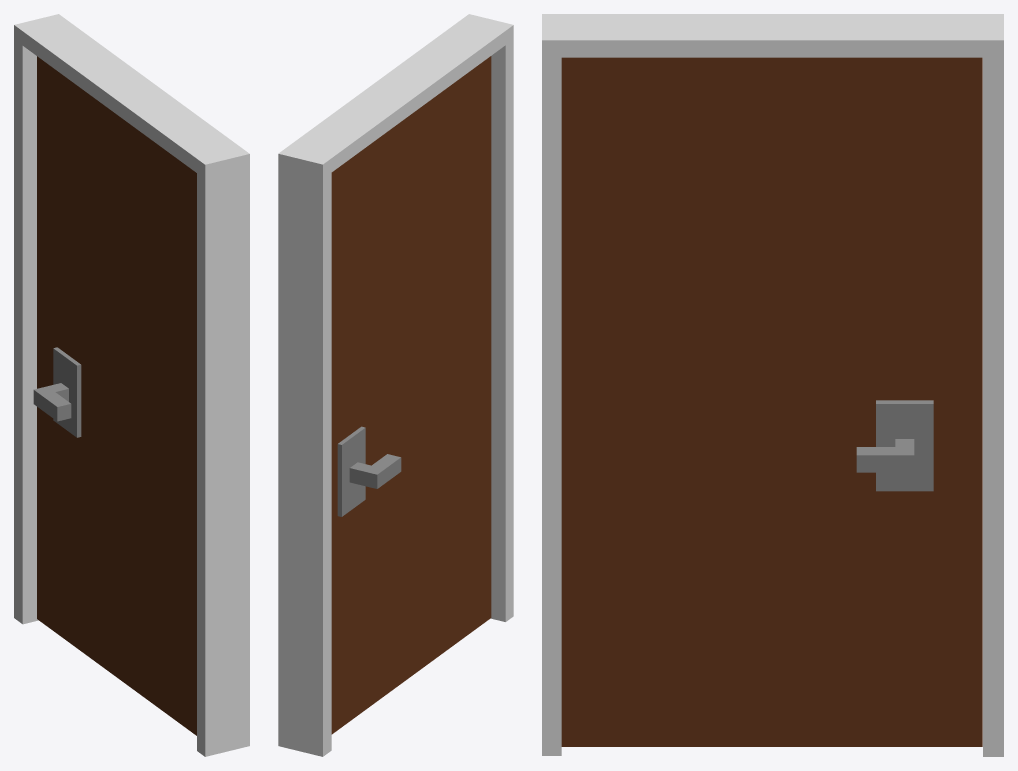
File: Door.fbx
3 renders of one model, left to right at view 1: azimuth 30°, elevation 25°; view 2: azimuth 150°, elevation 25°; view 3: azimuth 270°, elevation 25°, orthographic. The views are drawn at different scales.
Parts seen in each view (by area): view 1: Door.003, Cube; view 2: Door.003, Cube; view 3: Door.003, Cube.
Boxes of the visible parts, x1=… form: Door.003: x1=33, y1=56, x2=196, y2=735; Cube: x1=14, y1=14, x2=249, y2=756; Door.003: x1=331, y1=56, x2=491, y2=734; Cube: x1=278, y1=14, x2=513, y2=756; Door.003: x1=561, y1=57, x2=982, y2=746; Cube: x1=542, y1=14, x2=1003, y2=756.
Size of the model in its own units: 49.77 by 341 by 199.
Materials: 1 (1 with a texture image).
